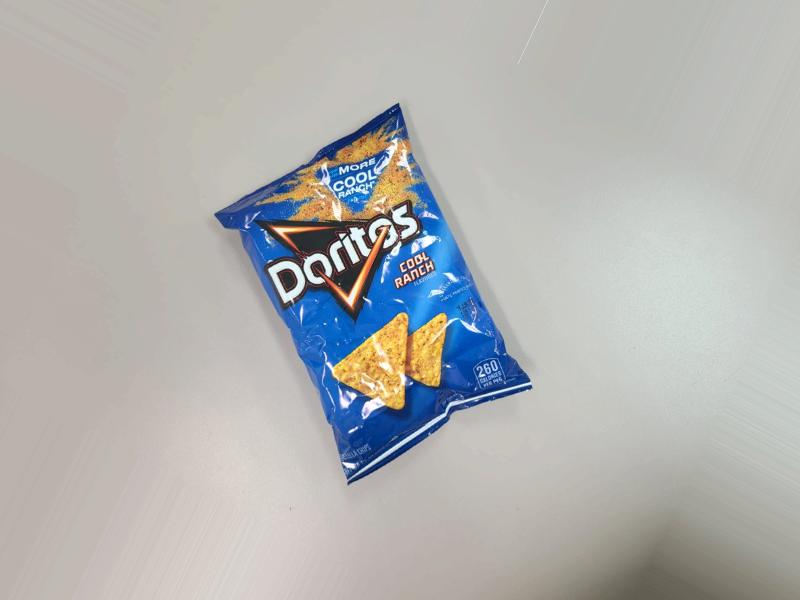doritos: (229, 88, 534, 508)
